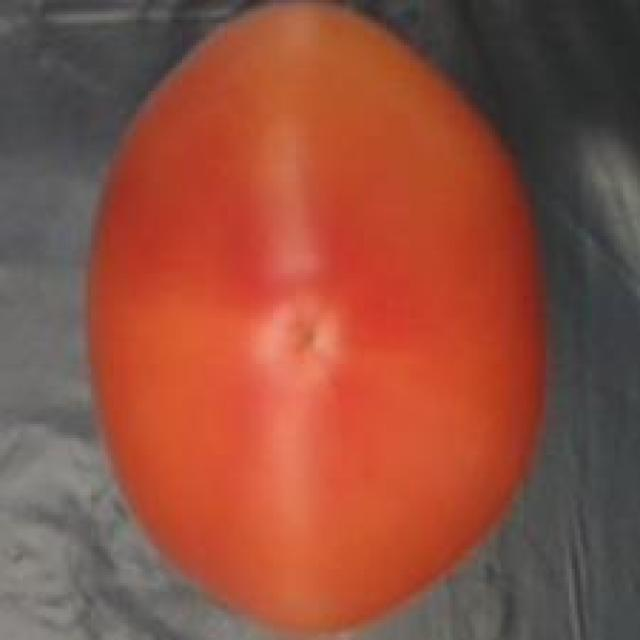ripe tomato: (77, 0, 566, 640)
